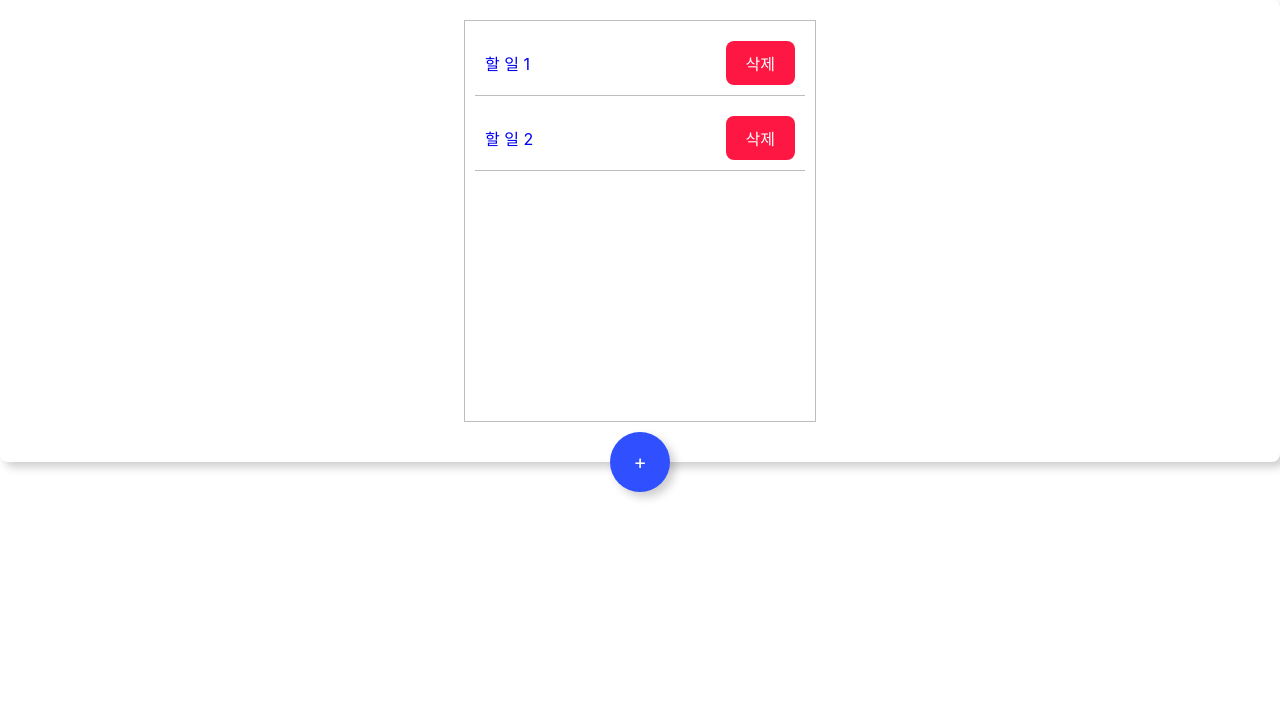
Test: <List/> › deletes todo item
Check: the link "할 일 1" is shown, box [485,54,530,74]
Click the element showing "삭제" in the row of "할 일 1": (760, 63) [726,41,795,85]
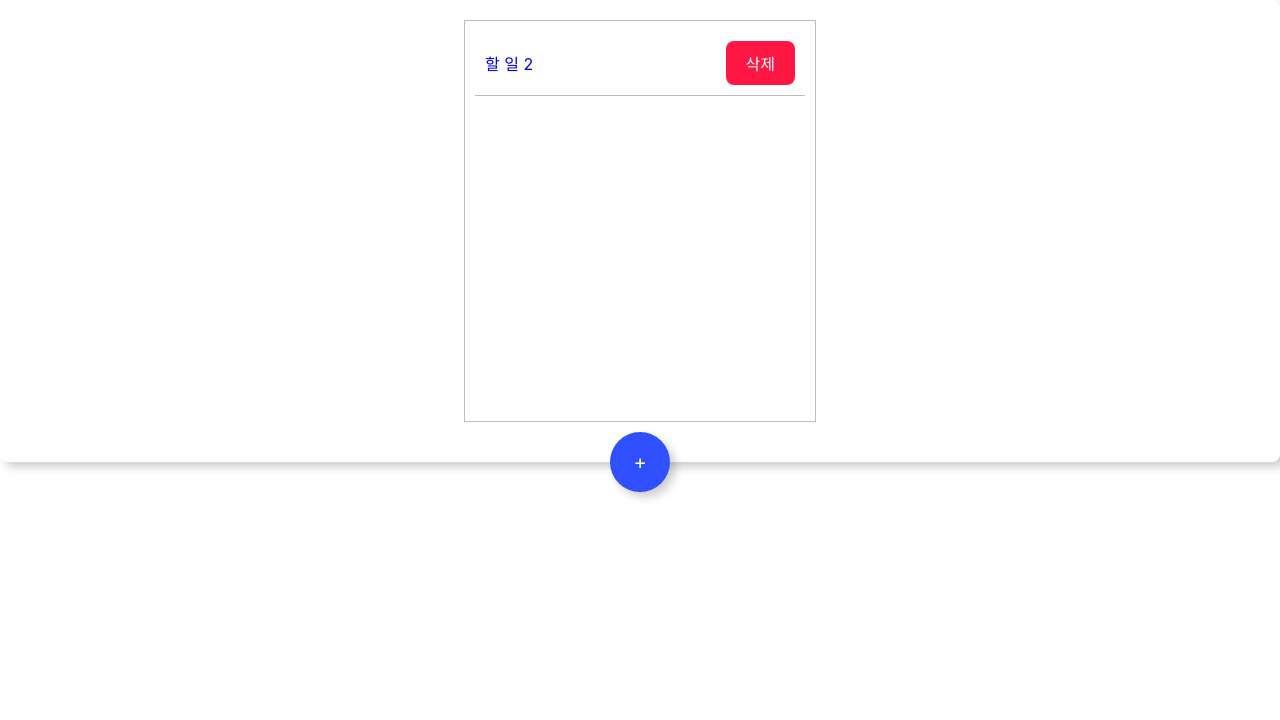
Check: the link "할 일 1" is gone
